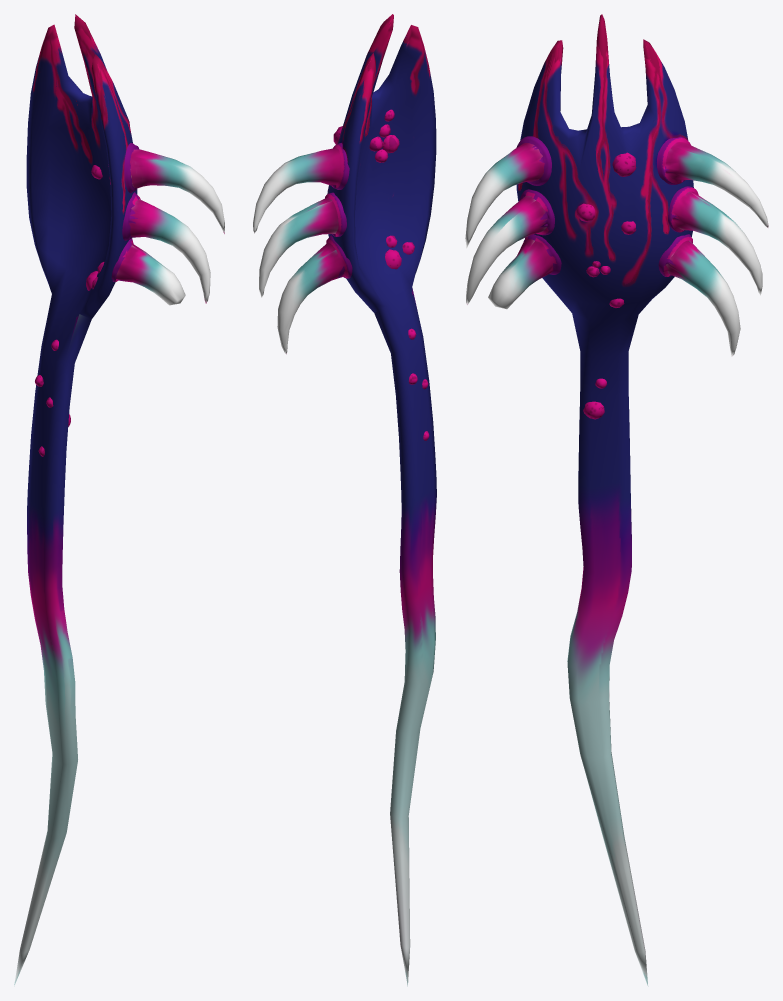
Rendered from cumchanedor.fbx.
The picture shows the model from 3 angles, left to right: view 1: azimuth 30°, elevation 25°; view 2: azimuth 150°, elevation 25°; view 3: azimuth 270°, elevation 25°; orthographic projection. The views are drawn at different scales.
Parts seen in each view (by area): view 1: Plane; view 2: Plane; view 3: Plane.
Part boxes in pixels (x1,y1,x2,y2): Plane: [14, 14, 224, 986]; Plane: [253, 14, 436, 986]; Plane: [465, 14, 768, 986].
Bounding box in the file's own units: 13.54 × 103 × 28.66.
